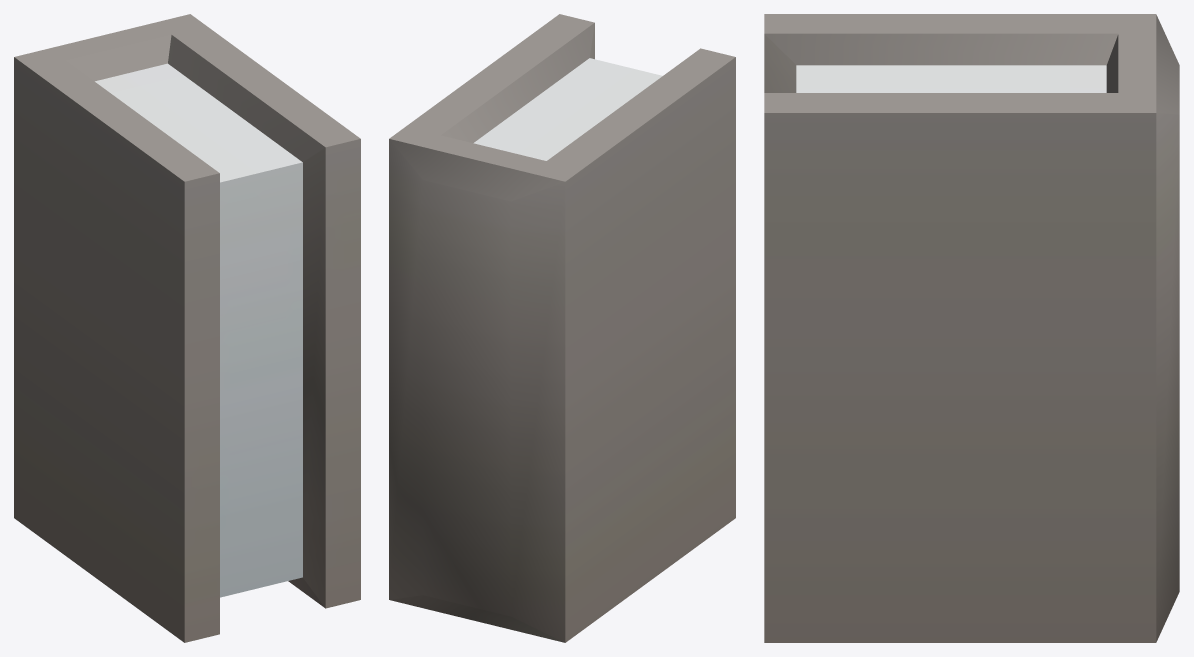
The model's file is book_grey.glb.
3 renders of one model, left to right at view 1: azimuth 30°, elevation 25°; view 2: azimuth 150°, elevation 25°; view 3: azimuth 270°, elevation 25°, orthographic. The views are drawn at different scales.
Visible parts, largest first — view 1: book_grey; view 2: book_grey; view 3: book_grey.
Boxes of the visible parts, x1=… form: book_grey: x1=14, y1=14, x2=360, y2=642; book_grey: x1=389, y1=14, x2=735, y2=642; book_grey: x1=764, y1=14, x2=1179, y2=642.
Size of the model in its own units: 0.2 by 0.5 by 0.355.
1 material, 1 textured.
